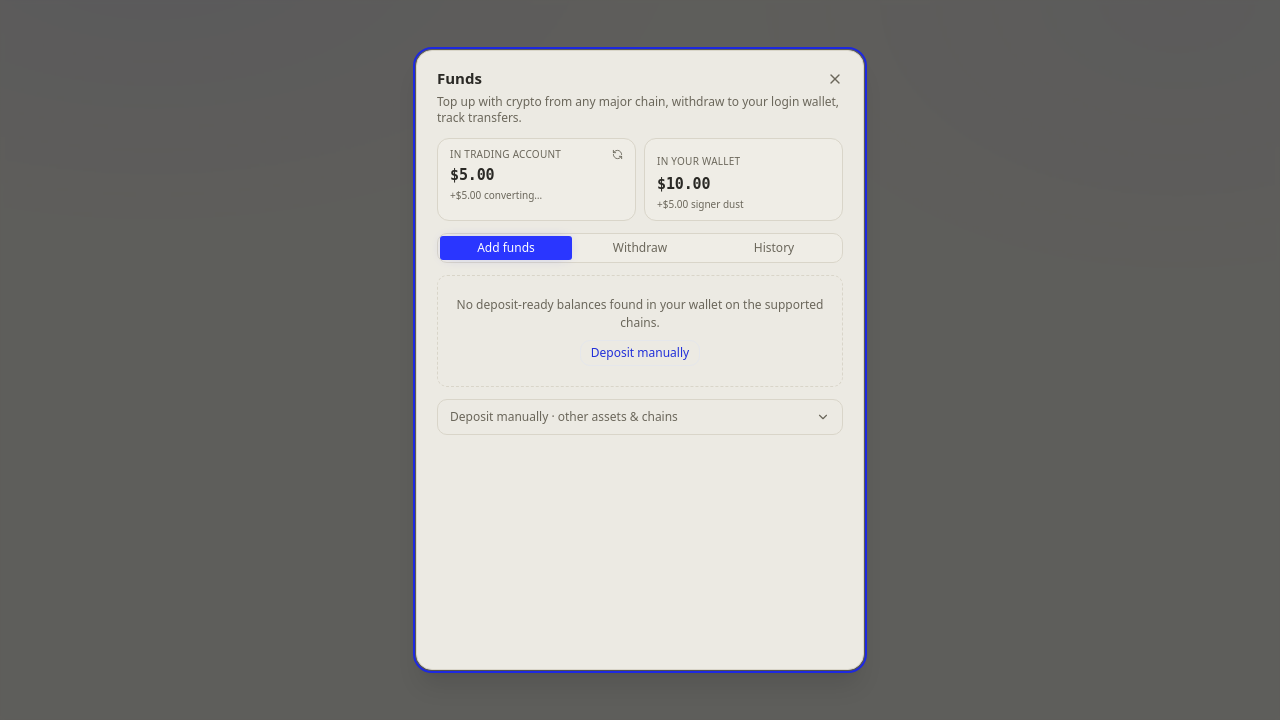
Test: FundsSheet top-up (holdings-first) › shows a nudge to deposit manually when the wallet holds nothing readable
The image size is (1280, 720).
Check: the text "No deposit-ready balances found in your wallet" is shown, box [457,296,823,331]
Click the button "Deposit manually": (640, 353) [580,340,700,366]
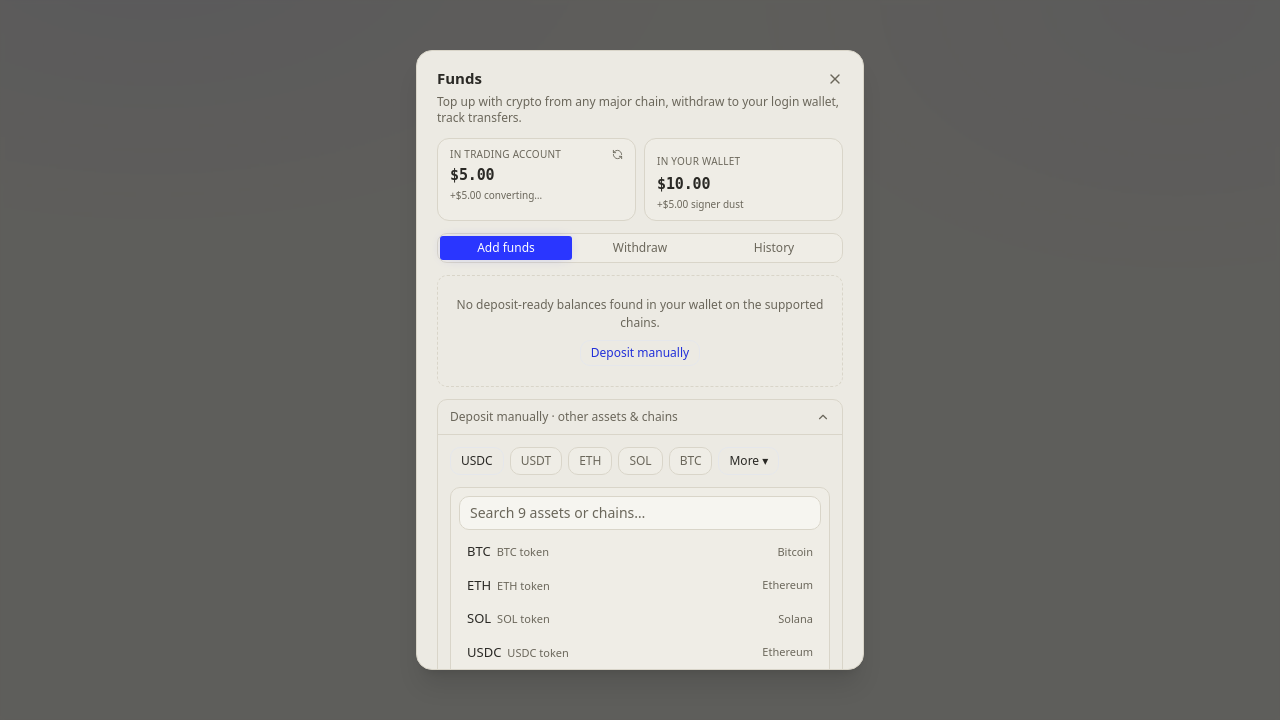
Check: the button "USDC" is shown, box [450,447,504,475]
